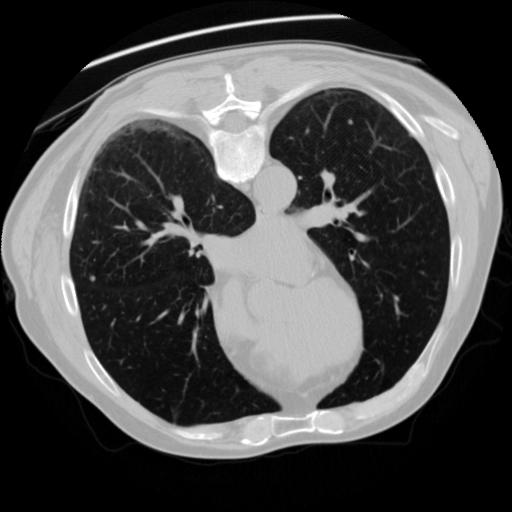nodule: (344, 118, 356, 130)
